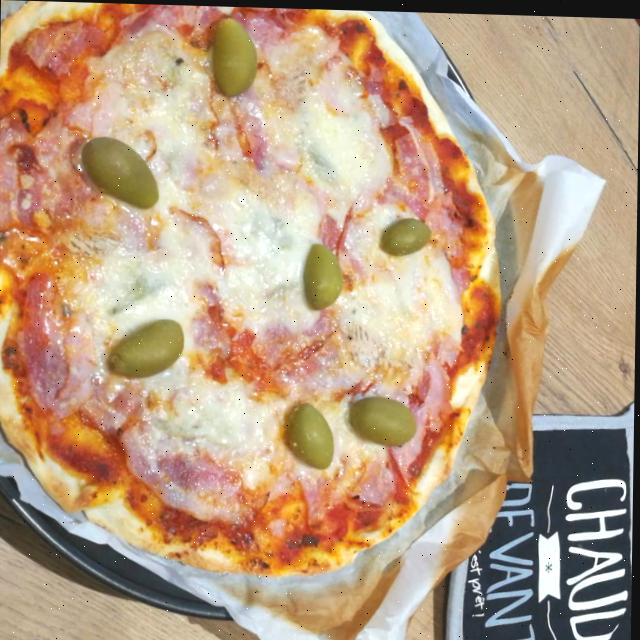green_olives: (78, 133, 160, 209), (106, 312, 190, 384), (206, 7, 264, 100), (298, 239, 355, 314), (282, 395, 339, 468), (347, 392, 422, 447), (377, 210, 435, 259)
pizza: (0, 1, 504, 578)
